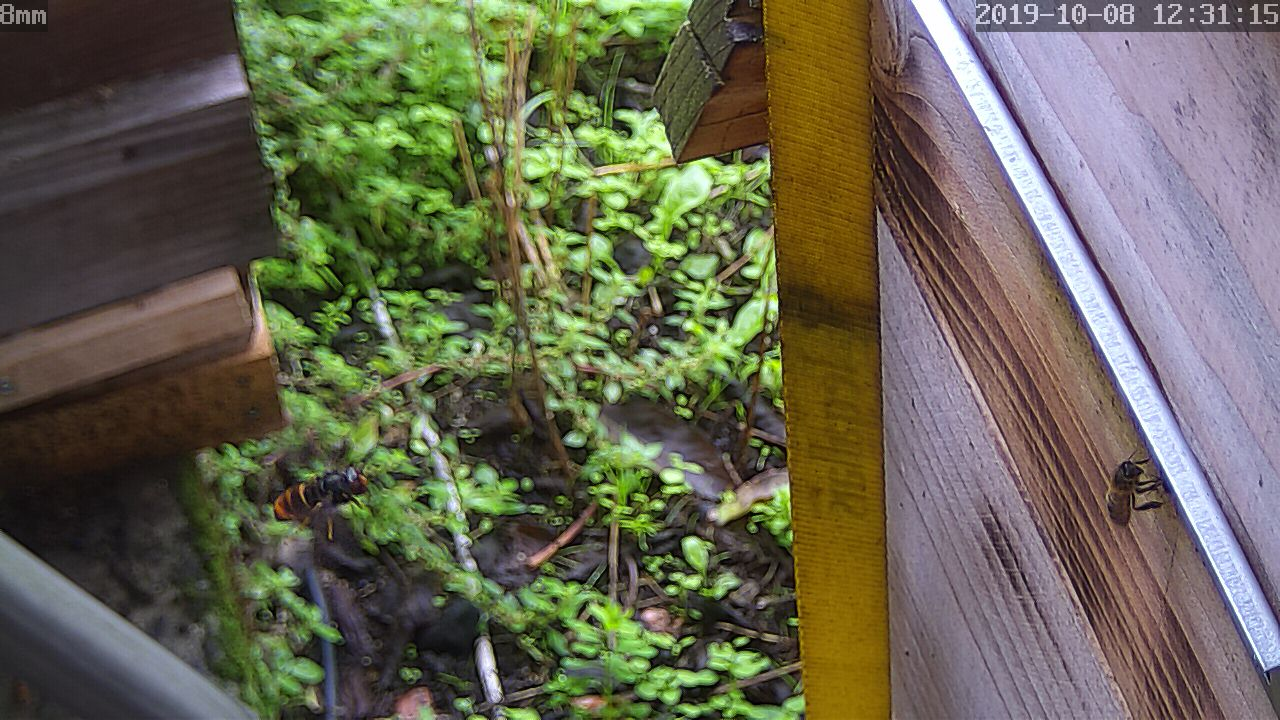bee: (1103, 448, 1160, 517)
hornet: (257, 452, 380, 523)
